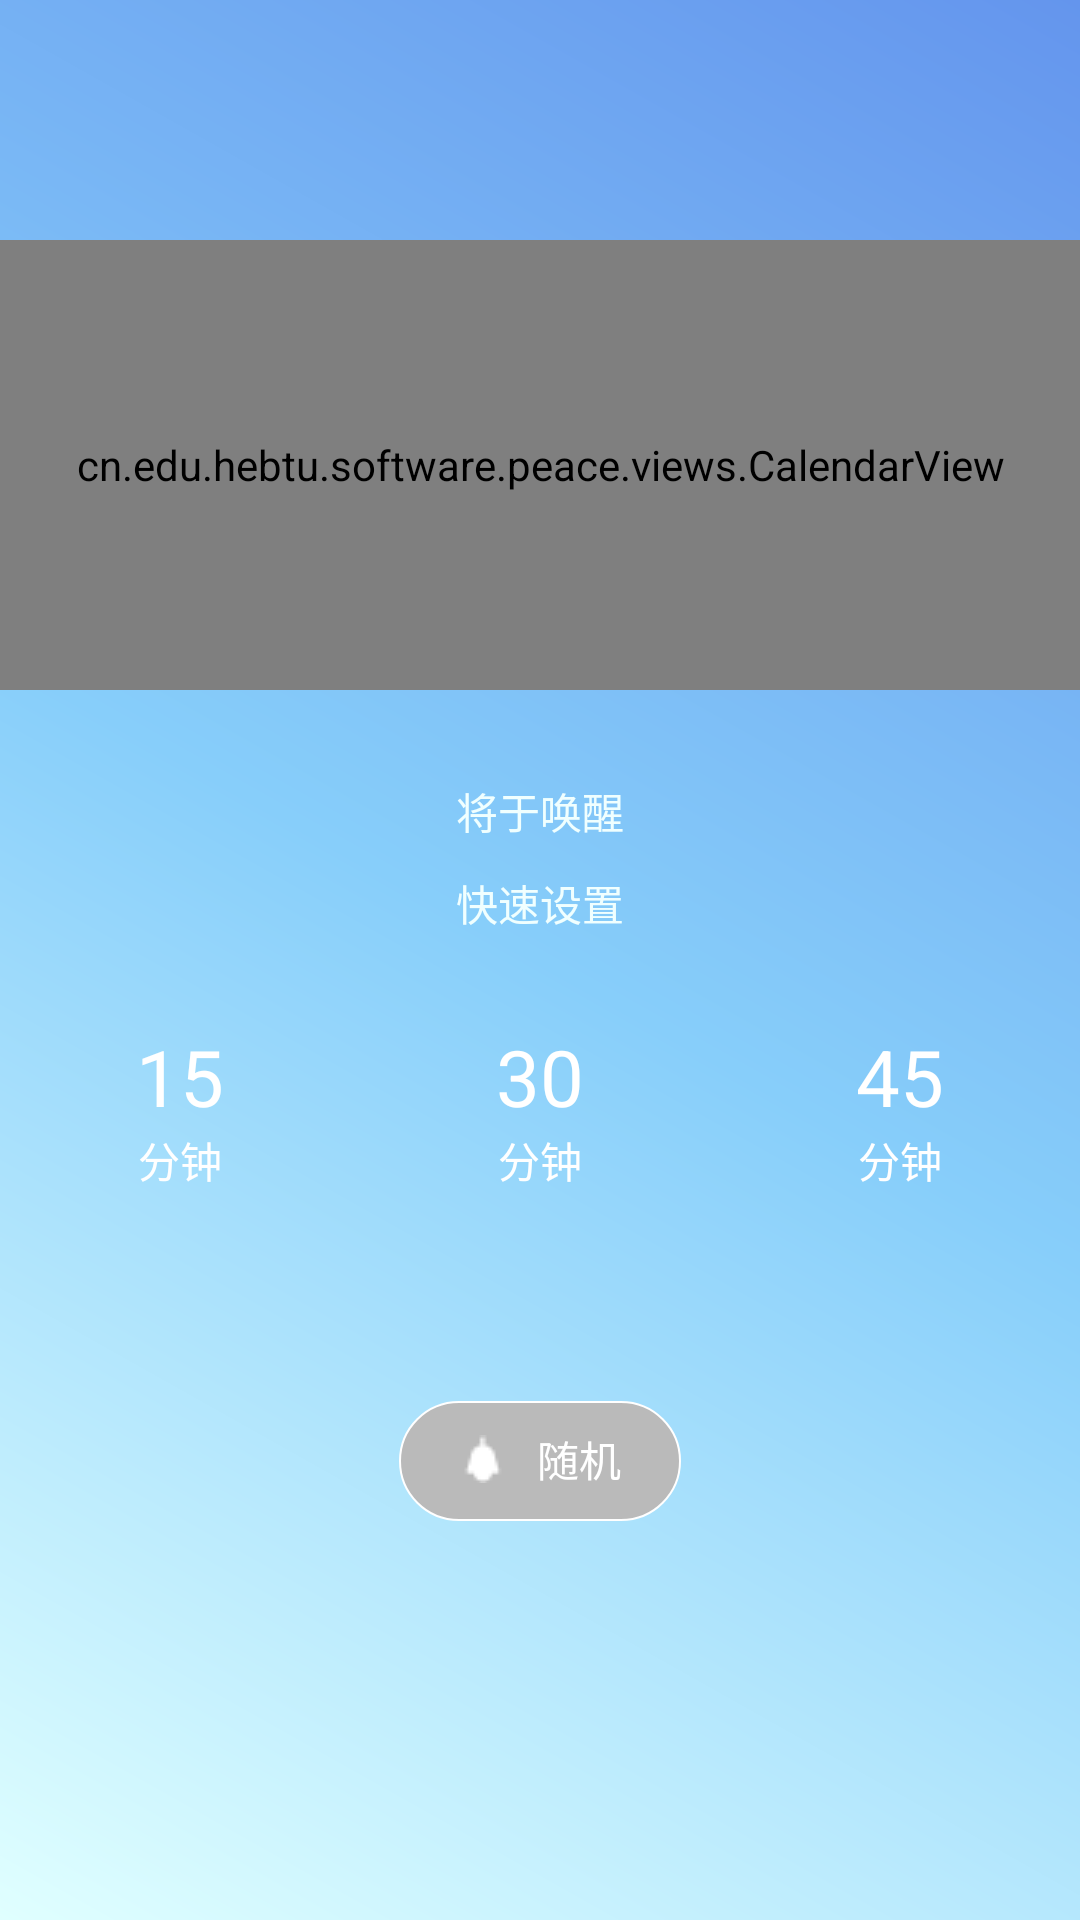

Named icons in this screenshot (1080 x 1920) and their bounding boxes, rect(x1, y1, x2, y2):
smallbell: rect(467, 1437, 499, 1481)
